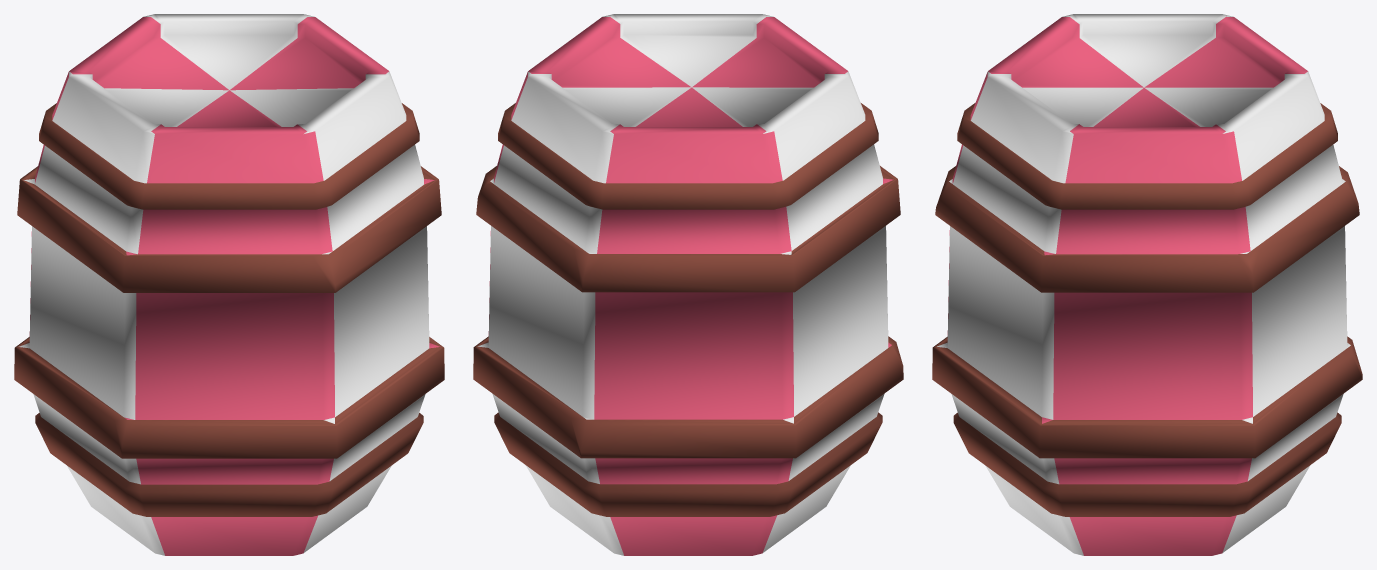
The model's file is barrel marshmallow final.fbx.
3 views of the same model, side by side, from view 1: azimuth 30°, elevation 25°; view 2: azimuth 150°, elevation 25°; view 3: azimuth 270°, elevation 25° (orthographic).
Parts seen in each view (by area): view 1: Cylinder; view 2: Cylinder; view 3: Cylinder.
Boxes of the visible parts, x1,y1,x2,y2 form: Cylinder: (14, 14, 444, 555); Cylinder: (473, 14, 903, 555); Cylinder: (932, 14, 1362, 555).
Bounding box in the file's own units: 2.35 × 2.99 × 2.72.
